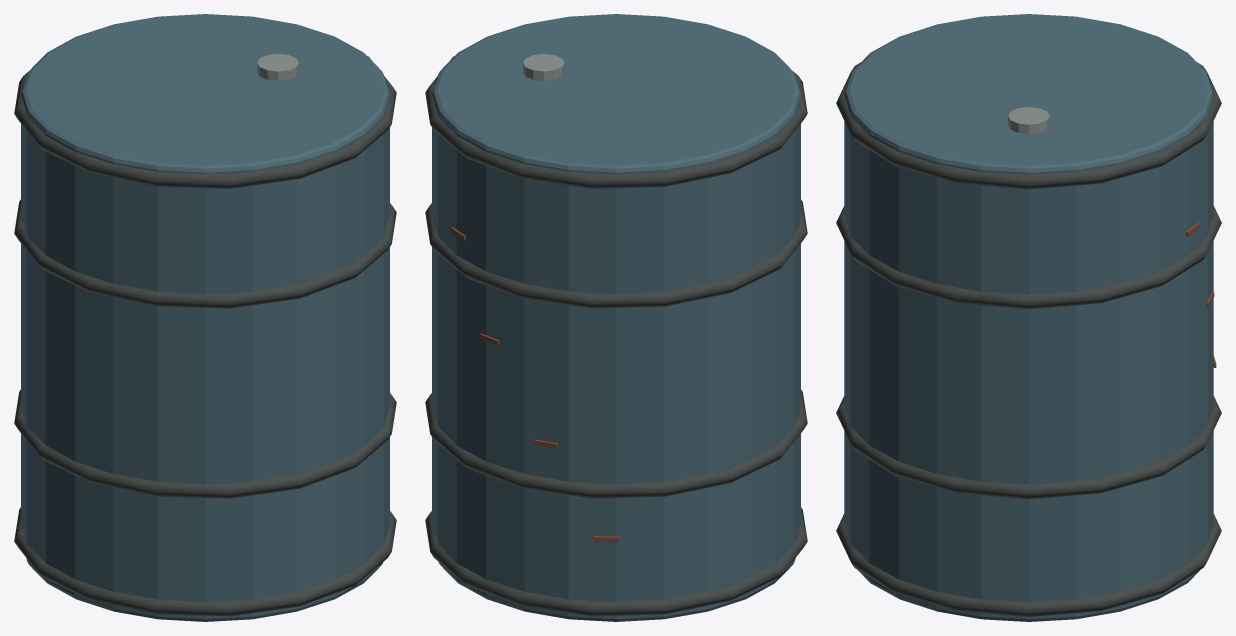
Rendered from prop_metal_barrel.gltf.
3 renders of one model, left to right at view 1: azimuth 30°, elevation 25°; view 2: azimuth 150°, elevation 25°; view 3: azimuth 270°, elevation 25°, orthographic.
Visible parts, largest first — view 1: prop_metal_barrel__paint_blue, prop_metal_barrel__dark_steel, prop_metal_barrel__steel; view 2: prop_metal_barrel__paint_blue, prop_metal_barrel__dark_steel, prop_metal_barrel__steel, prop_metal_barrel__rust; view 3: prop_metal_barrel__paint_blue, prop_metal_barrel__dark_steel, prop_metal_barrel__steel.
Part boxes in pixels (x1,y1,x2,y2): prop_metal_barrel__paint_blue: (21,14,389,621); prop_metal_barrel__dark_steel: (14,56,396,616); prop_metal_barrel__steel: (257,54,298,80); prop_metal_barrel__paint_blue: (432,14,800,621); prop_metal_barrel__dark_steel: (425,56,807,616); prop_metal_barrel__steel: (523,54,564,80); prop_metal_barrel__rust: (450,227,618,541); prop_metal_barrel__paint_blue: (844,14,1213,621); prop_metal_barrel__dark_steel: (836,62,1221,616); prop_metal_barrel__steel: (1008,107,1049,134).
Size of the model in its own units: 1.84 by 2.45 by 1.84.
